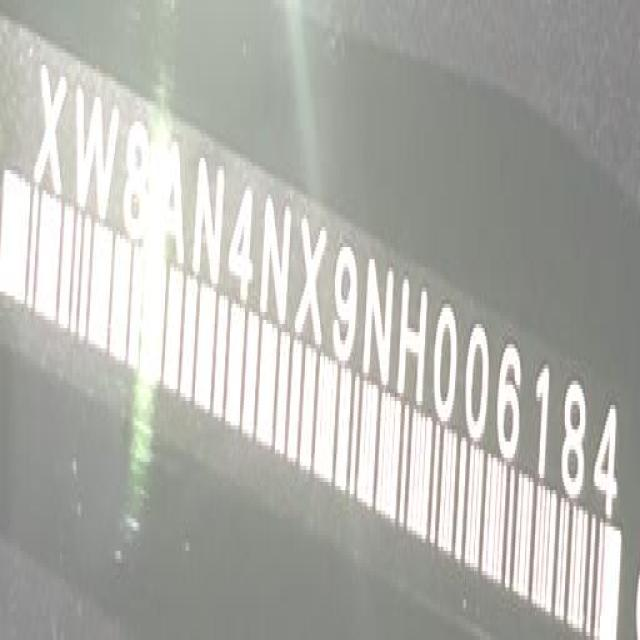0: (428, 282, 464, 432), (461, 311, 494, 452)
1: (531, 354, 556, 486)
4: (225, 167, 260, 308), (592, 386, 622, 522)
6: (493, 329, 523, 476)
8: (117, 105, 158, 254), (556, 362, 595, 516)
9: (329, 227, 361, 374)
A: (154, 120, 191, 273)
H: (394, 267, 434, 413)
N: (188, 143, 232, 293), (358, 239, 400, 390), (256, 179, 296, 329)
W: (68, 72, 123, 224)
X: (291, 200, 334, 360), (30, 48, 72, 209)
